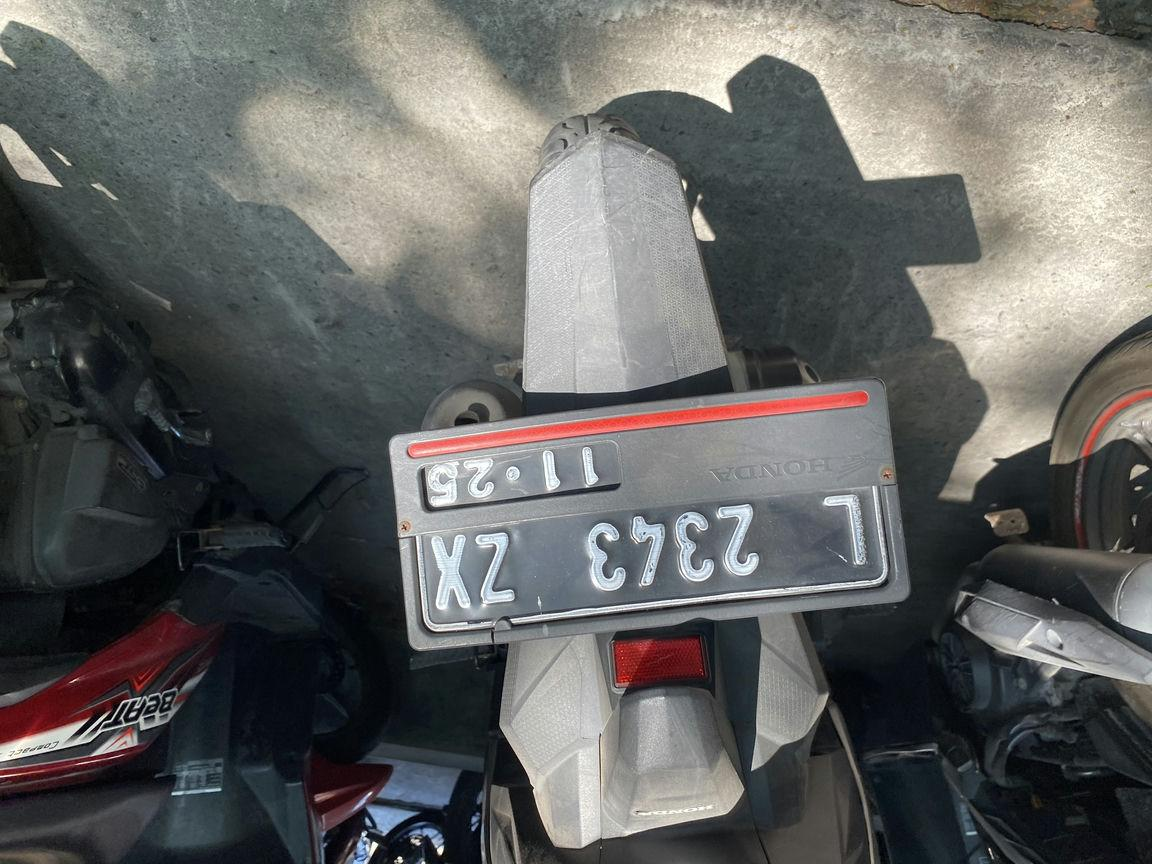plat: (243, 216, 763, 486)
